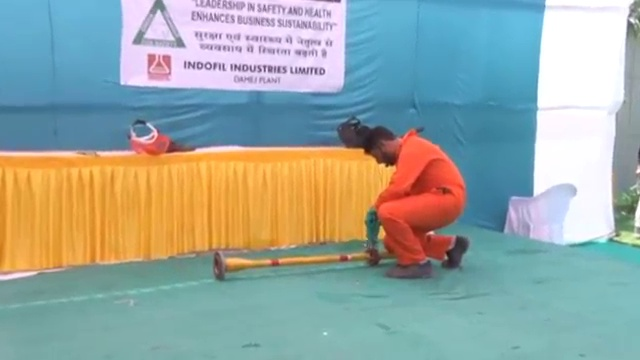helmet_off: (364, 125, 401, 168)
person: (340, 114, 478, 280)
